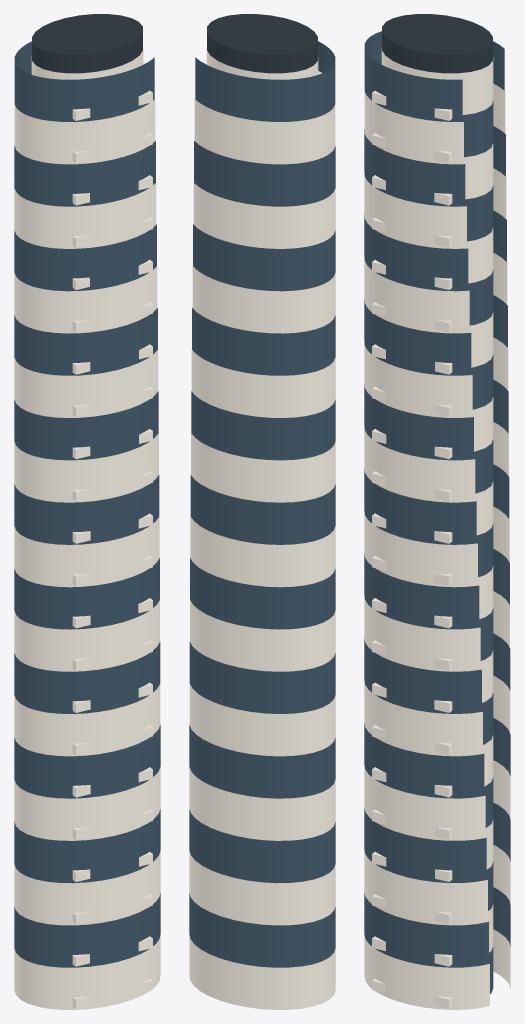
The model's file is charrington-tower.glb.
The picture shows the model from 3 angles, left to right: view 1: azimuth 30°, elevation 25°; view 2: azimuth 150°, elevation 25°; view 3: azimuth 330°, elevation 25°; orthographic projection.
Parts seen in each view (by area): view 1: charrington-tower, charrington-tower-cap, charrington-tower-peel-8, charrington-tower-peel-12, charrington-tower-peel-5, charrington-tower-peel-7, charrington-tower-peel-9, charrington-tower-peel-21, charrington-tower-peel-10, charrington-tower-peel-11, charrington-tower-peel-6, charrington-tower-peel-20 (+12 smaller); view 2: charrington-tower, charrington-tower-cap; view 3: charrington-tower, charrington-tower-cap, charrington-tower-peel-10, charrington-tower-peel-11, charrington-tower-peel-6, charrington-tower-peel-7, charrington-tower-peel-8, charrington-tower-peel-21, charrington-tower-peel-5, charrington-tower-peel-9, charrington-tower-peel-12, charrington-tower-peel-13 (+12 smaller).
Boxes of the visible parts, x1=… form: charrington-tower: x1=14, y1=41, x2=160, y2=1009; charrington-tower-cap: x1=32, y1=14, x2=142, y2=73; charrington-tower-peel-8: x1=72, y1=640, x2=152, y2=670; charrington-tower-peel-12: x1=72, y1=471, x2=152, y2=501; charrington-tower-peel-5: x1=72, y1=767, x2=152, y2=797; charrington-tower-peel-7: x1=72, y1=682, x2=152, y2=712; charrington-tower-peel-9: x1=72, y1=598, x2=152, y2=628; charrington-tower-peel-21: x1=72, y1=90, x2=152, y2=120; charrington-tower-peel-10: x1=72, y1=556, x2=152, y2=585; charrington-tower-peel-11: x1=72, y1=513, x2=152, y2=543; charrington-tower-peel-6: x1=72, y1=725, x2=152, y2=755; charrington-tower-peel-20: x1=72, y1=133, x2=152, y2=163; charrington-tower: x1=189, y1=41, x2=335, y2=1009; charrington-tower-cap: x1=207, y1=14, x2=317, y2=73; charrington-tower: x1=364, y1=31, x2=510, y2=1009; charrington-tower-cap: x1=382, y1=14, x2=492, y2=73; charrington-tower-peel-10: x1=372, y1=555, x2=452, y2=585; charrington-tower-peel-11: x1=372, y1=513, x2=452, y2=543; charrington-tower-peel-6: x1=372, y1=725, x2=452, y2=755; charrington-tower-peel-7: x1=372, y1=682, x2=452, y2=712; charrington-tower-peel-8: x1=372, y1=640, x2=452, y2=670; charrington-tower-peel-21: x1=372, y1=90, x2=452, y2=120; charrington-tower-peel-5: x1=372, y1=767, x2=452, y2=797; charrington-tower-peel-9: x1=372, y1=598, x2=452, y2=628; charrington-tower-peel-12: x1=372, y1=471, x2=452, y2=501; charrington-tower-peel-13: x1=372, y1=429, x2=452, y2=459.
Size of the model in its own units: 0.2838 by 1.98 by 0.2199.
